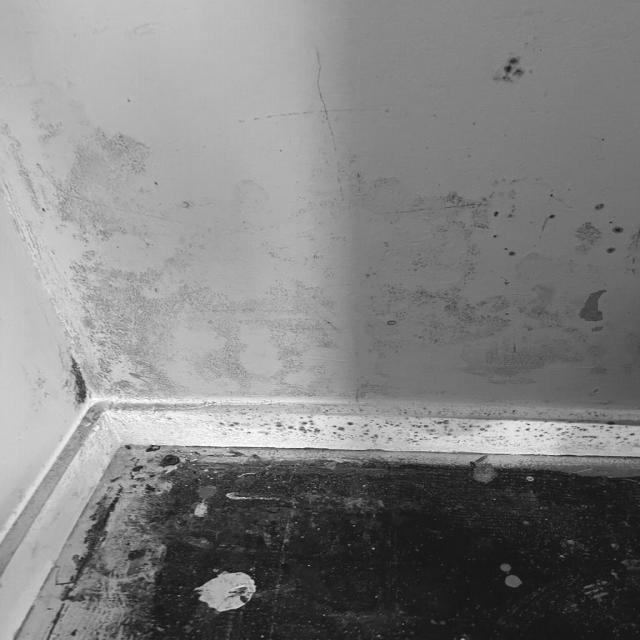stain marks: (0, 53, 637, 451)
